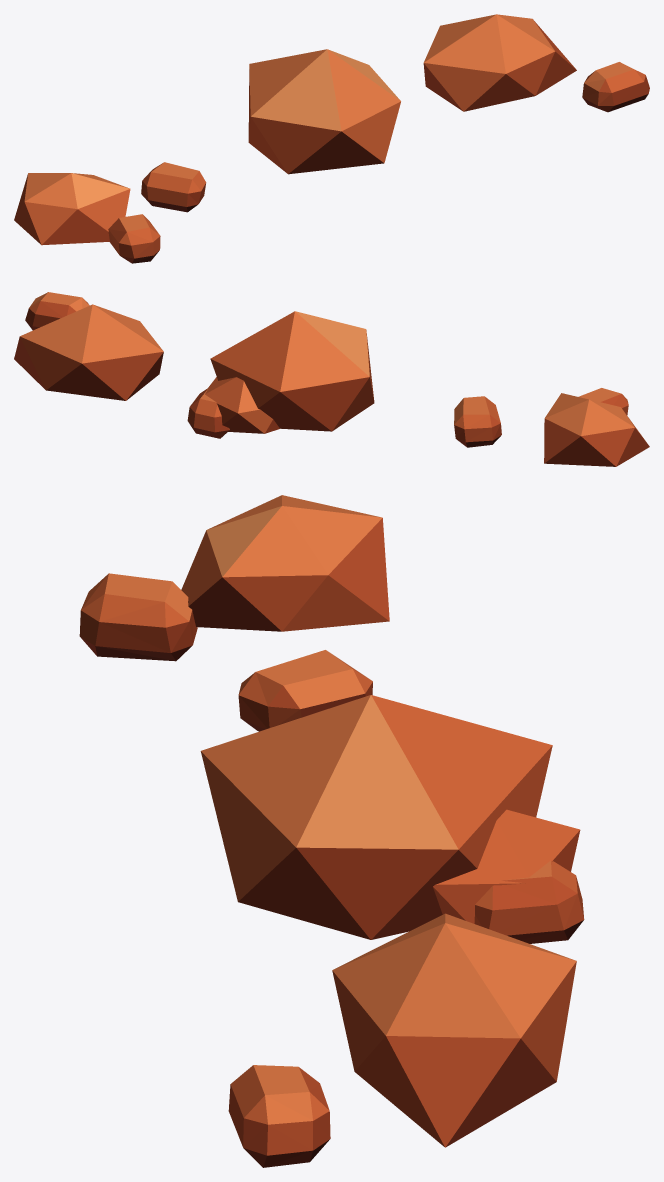
Rendered from SM_ROCK_DEBRIS_02.fbx.
3 views of the same model, one above another, from view 1: azimuth 30°, elevation 25°; view 2: azimuth 150°, elevation 25°; view 3: azimuth 270°, elevation 25° (orthographic). The views are drawn at different scales.
Visible parts, largest first — view 1: ROCK_DEBRIS_02; view 2: ROCK_DEBRIS_02; view 3: ROCK_DEBRIS_02.
Boxes of the visible parts, <box> form: ROCK_DEBRIS_02: <box>14,14,649,263</box>; ROCK_DEBRIS_02: <box>14,292,649,466</box>; ROCK_DEBRIS_02: <box>79,495,584,1167</box>.
Bounding box in the file's own units: 1.55 × 0.5598 × 0.241.
